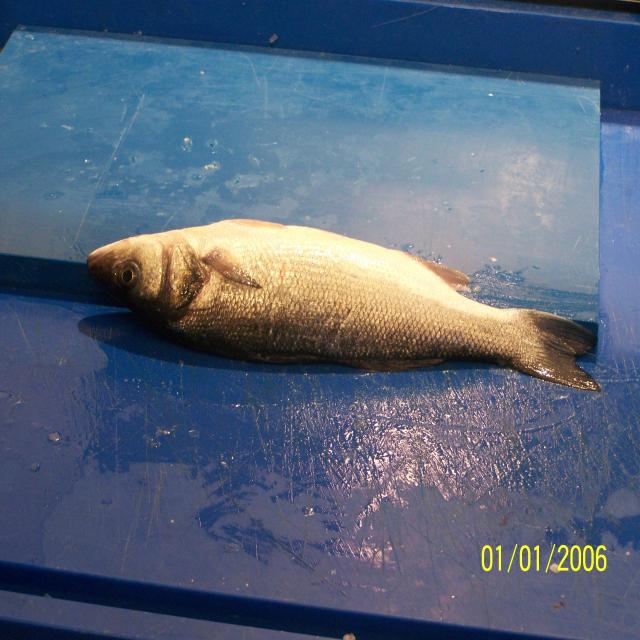Sea-Bass-levrek-: (85, 219, 600, 393)
